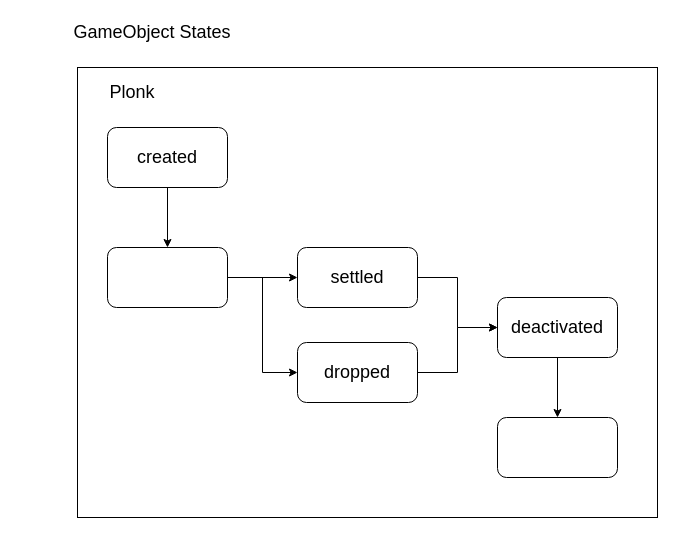
The diagram is 675 pixels wide and 535 high, and some of its shapes have lost their labels. The shapes that lost their labels are listed below. From the top down, each one's box as (x1, y1, x2, y2) in pixels, then its label:
(106, 246, 228, 308): activated
(496, 416, 618, 478): destroyed
